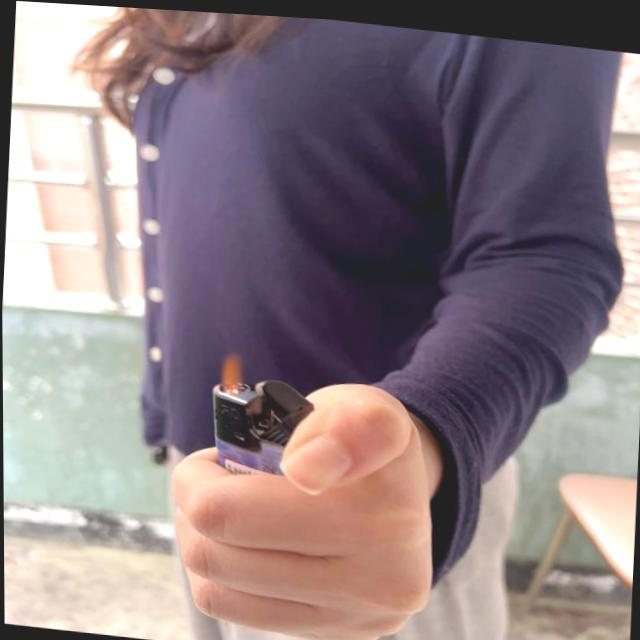helmet: (219, 342, 248, 389)
